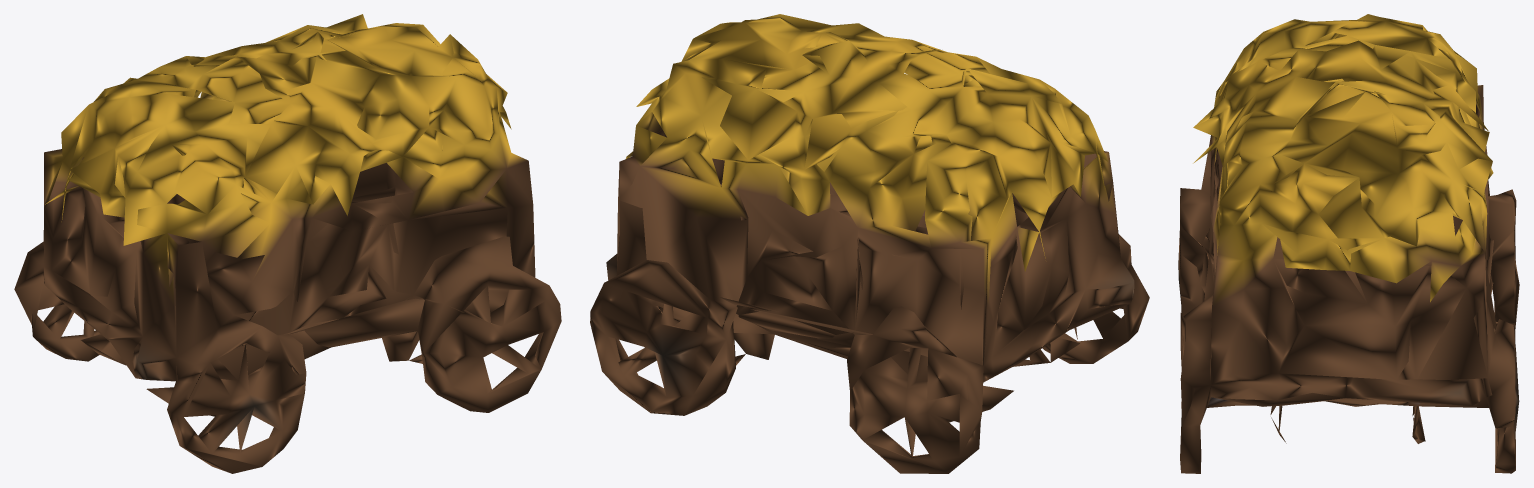
Rendered from gen3d-hay-cart-lod0.glb.
The picture shows the model from 3 angles, left to right: view 1: azimuth 30°, elevation 25°; view 2: azimuth 150°, elevation 25°; view 3: azimuth 270°, elevation 25°; orthographic projection. The views are drawn at different scales.
Visible parts, largest first — view 1: part_0; view 2: part_0; view 3: part_0.
Boxes of the visible parts, x1,y1,x2,y2 form: part_0: (14,14,561,473); part_0: (590,14,1149,473); part_0: (1178,14,1519,473).
Size of the model in its own units: 1.28 by 0.9994 by 0.9026.
